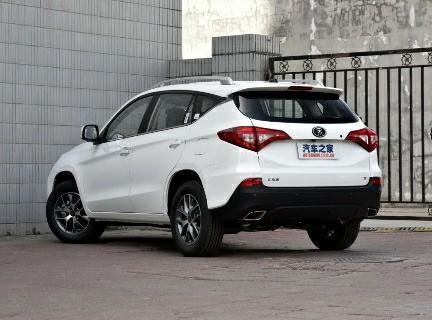car: (34, 69, 391, 265)
